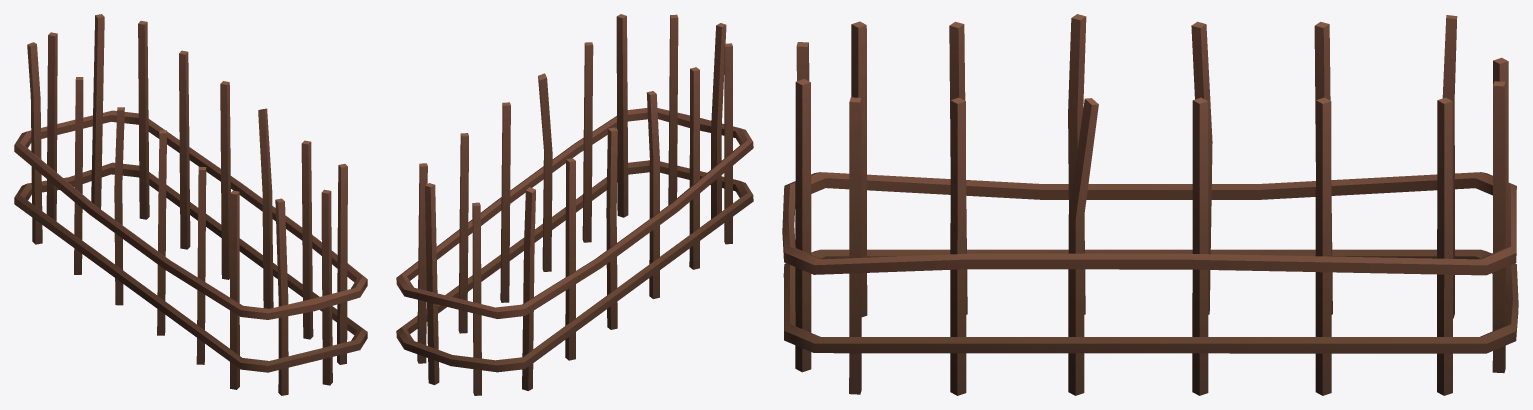
Rendered from RreinforcingBars_A_2.fbx.
The picture shows the model from 3 angles, left to right: view 1: azimuth 30°, elevation 25°; view 2: azimuth 150°, elevation 25°; view 3: azimuth 270°, elevation 25°; orthographic projection. The views are drawn at different scales.
Visible parts, largest first — view 1: RreinforcingBars_A_2; view 2: RreinforcingBars_A_2; view 3: RreinforcingBars_A_2.
Part boxes in pixels (x1=…): RreinforcingBars_A_2: x1=14, y1=14, x2=367, y2=395; RreinforcingBars_A_2: x1=396, y1=14, x2=753, y2=395; RreinforcingBars_A_2: x1=782, y1=14, x2=1518, y2=395.
Size of the model in its own units: 42.53 by 64.27 by 143.
